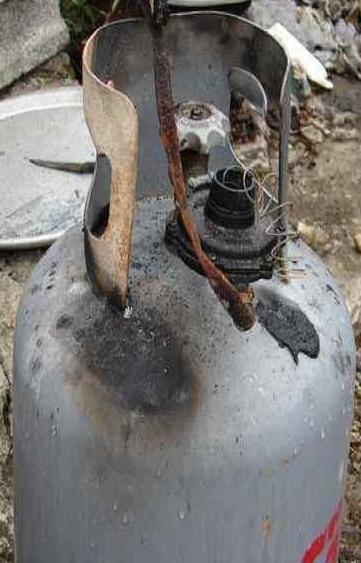cylinder: (1, 1, 361, 563)
